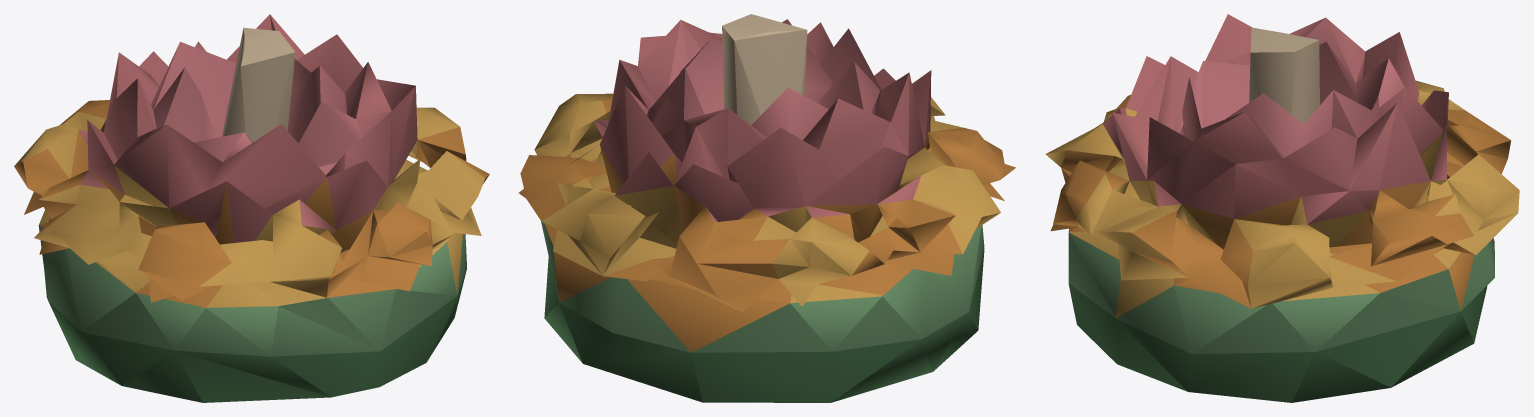
File: marigold_01.low.glb
3 renders of one model, left to right at view 1: azimuth 30°, elevation 25°; view 2: azimuth 150°, elevation 25°; view 3: azimuth 270°, elevation 25°, orthographic. The views are drawn at different scales.
Bounding box in the file's own units: 2.17 × 1.46 × 2.21.
